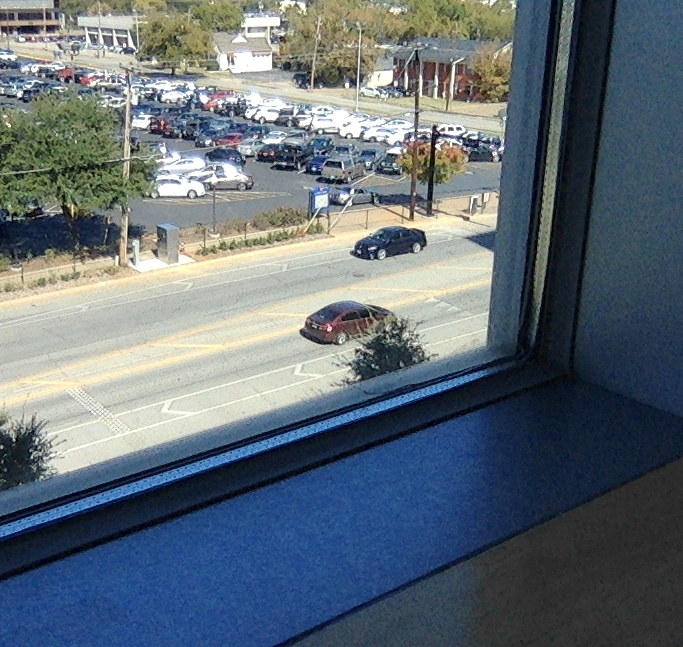car: (300, 300, 383, 347)
